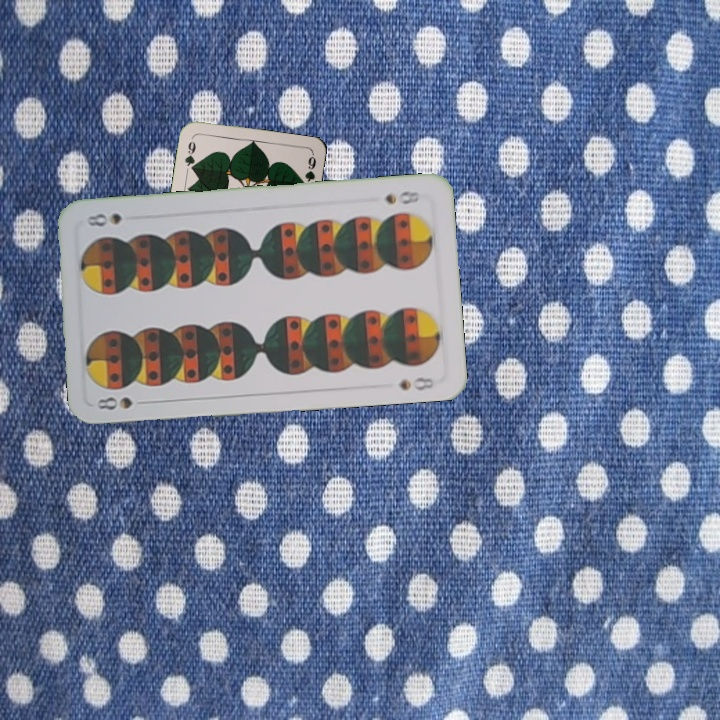G9: (181, 134, 198, 174)
S8: (93, 393, 152, 413), (380, 186, 422, 207)
